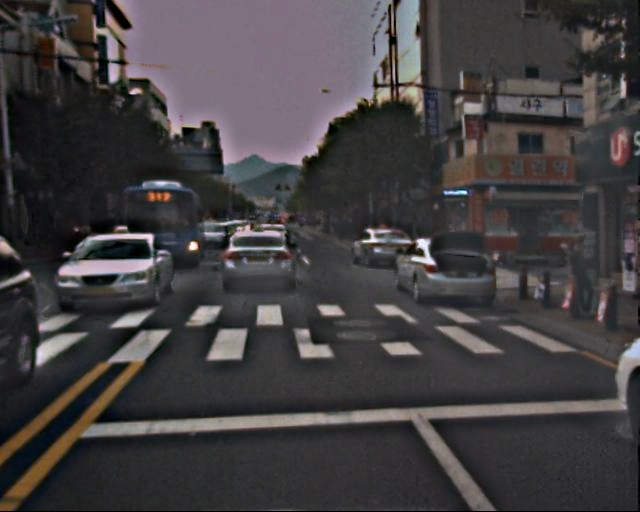person: (564, 235, 600, 317), (515, 218, 535, 259)
